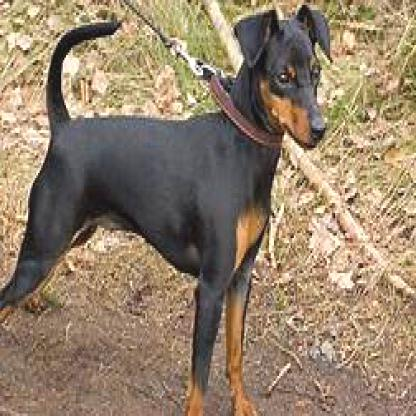dog: (0, 5, 335, 414)
